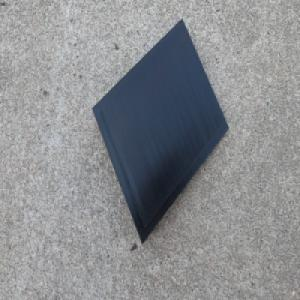PlasticPart: (91, 18, 229, 244)
